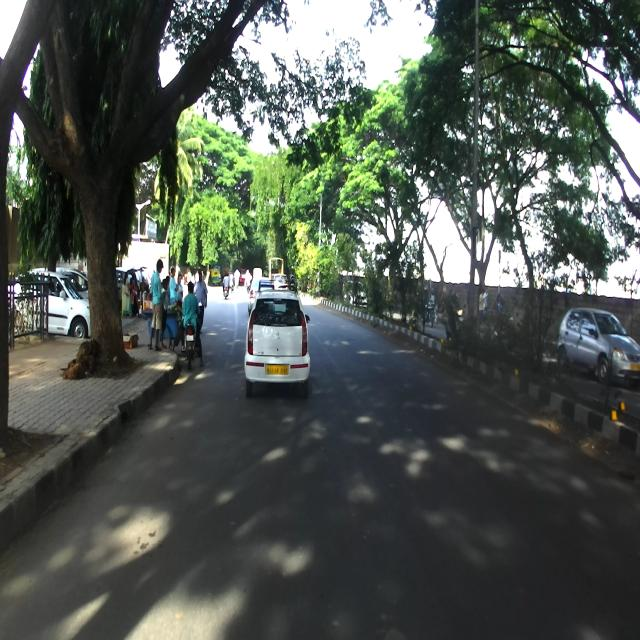car ahead at: (247, 295, 310, 387)
tree ahead at: (43, 52, 149, 382)
